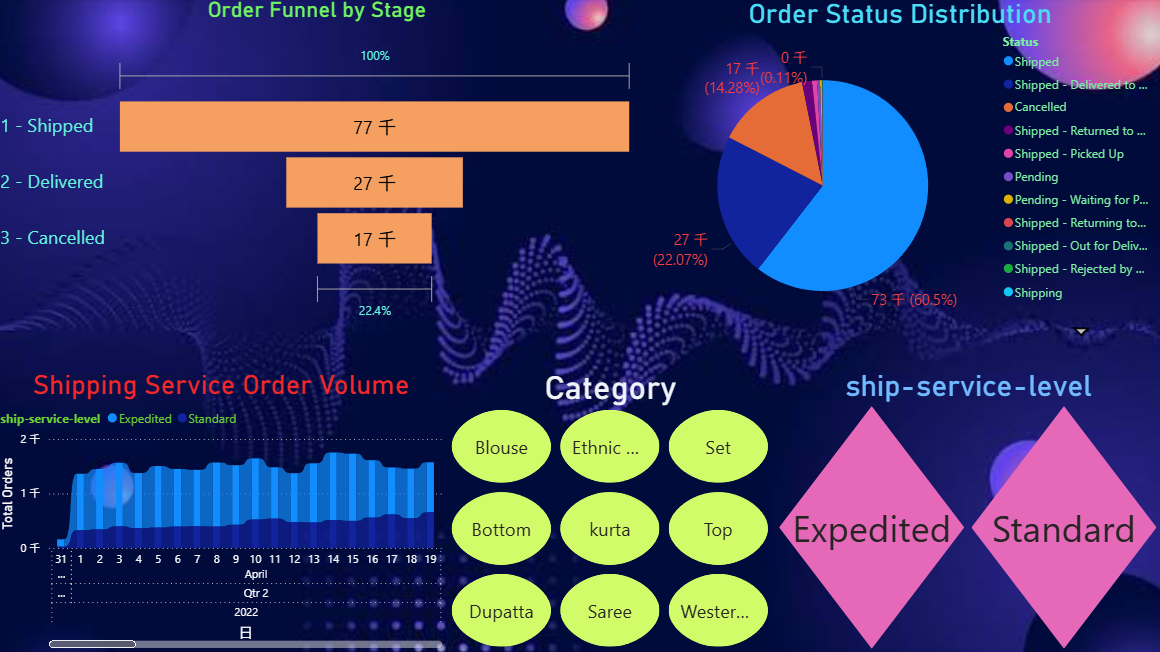

Layout of this report page (visuals, bound fields, positions):
{"tool":"powerbi","page":{"name":"Order & Funnel Stage","canvas":[1280,720],"ordinal":4},"visuals":[{"type":"funnel","title":"Order Funnel by Stage","fields":{"Category":["Order.Funnel_Stage"],"Y":["FactSales.Total Orders"]},"box":[0,0,705.3,380.1],"z":0},{"type":"advancedSlicerVisual","fields":{"Values":["ASIN.Category"]},"box":[495.4,407.5,359.5,312.9],"z":1000},{"type":"advancedSlicerVisual","fields":{"Values":["Order.ship-service-level"]},"box":[854.9,407.5,425.4,312.9],"z":2000},{"type":"pieChart","title":"Order Status Distribution","fields":{"Category":["FactSales.Status"],"Y":["FactSales.Total Orders"]},"box":[705.3,0,575,380.1],"z":3000},{"type":"ribbonChart","title":"Shipping Service Order Volume","fields":{"Series":["DimShipping.ship-service-level"],"Y":["FactSales.Total Orders"],"Category":["DimDate.Date.变体.日期层次结构.年","DimDate.Date.变体.日期层次结构.季度","DimDate.Date.变体.日期层次结构.月份","DimDate.Date.变体.日期层次结构.日"]},"box":[0,408,495,312],"z":4000}]}

Visuals, with their boxes in screenshot pixels (x1, y1, x2, y2), scaled from the page's 1280x720 canvas onto the 1160x652 screenshot:
"Order Funnel by Stage" funnel: [x1=0, y1=0, x2=639, y2=344]
advancedSlicerVisual - ASIN.Category: [x1=449, y1=369, x2=775, y2=651]
advancedSlicerVisual - Order.ship-service-level: [x1=775, y1=369, x2=1159, y2=651]
"Order Status Distribution" pieChart: [x1=639, y1=0, x2=1159, y2=344]
"Shipping Service Order Volume" ribbonChart: [x1=0, y1=369, x2=449, y2=651]
